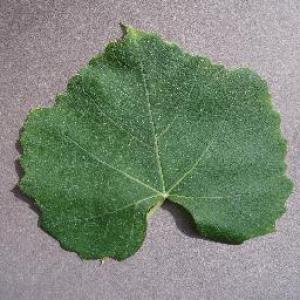Folha: (15, 23, 295, 262)
